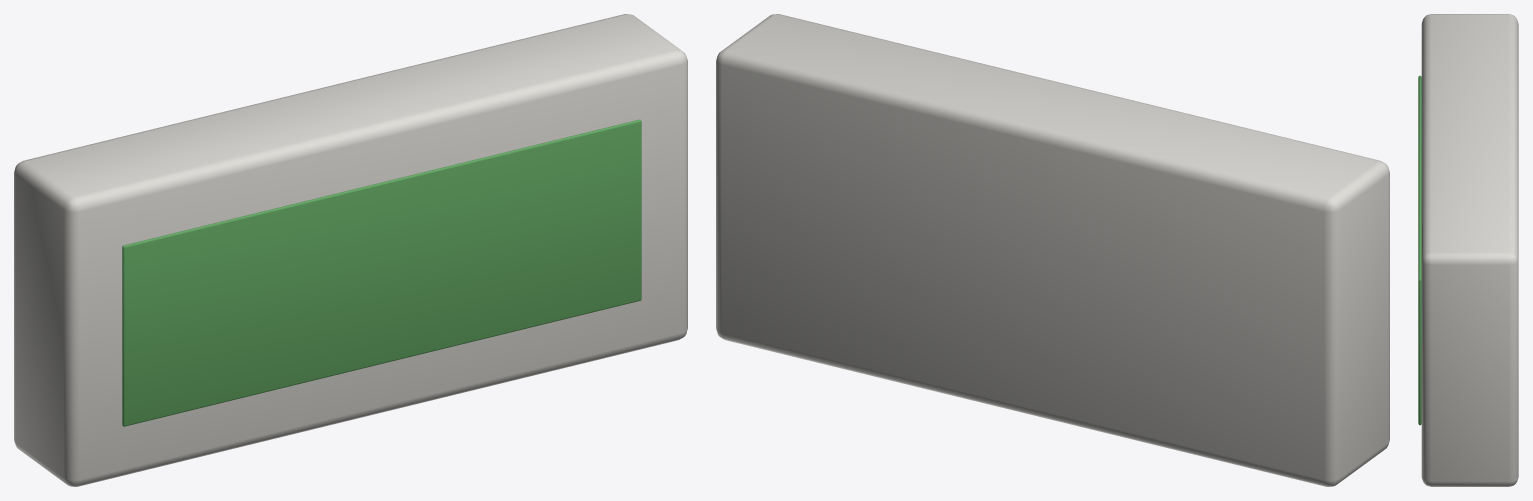
The model's file is exitsign.glb.
The picture shows the model from 3 angles, left to right: view 1: azimuth 30°, elevation 25°; view 2: azimuth 150°, elevation 25°; view 3: azimuth 270°, elevation 25°; orthographic projection. The views are drawn at different scales.
Parts seen in each view (by area): view 1: box, face; view 2: box; view 3: box, face.
Part boxes in pixels (x1,y1,x2,y2): box: (14, 14, 687, 486); face: (122, 119, 641, 426); box: (716, 14, 1389, 486); box: (1421, 14, 1518, 486); face: (1418, 75, 1421, 425).
Bounding box in the file's own units: 0.36 × 0.16 × 0.062.
